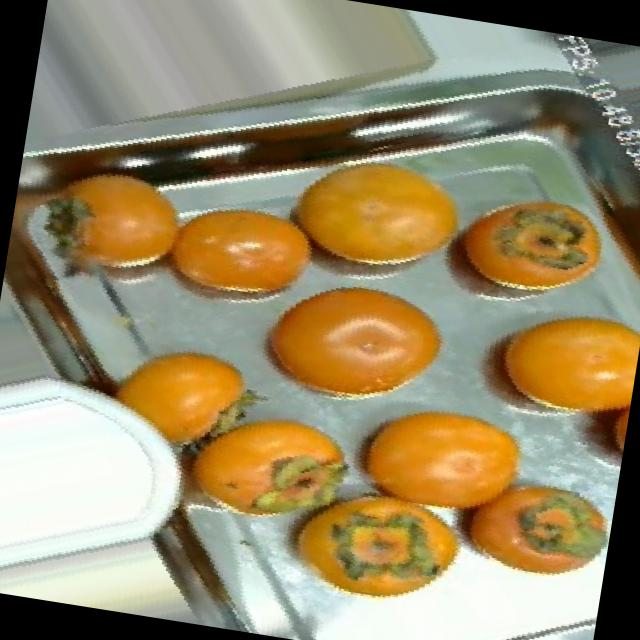Fruit: (231, 249, 474, 438), (253, 130, 495, 298), (153, 376, 377, 550), (326, 367, 556, 536), (129, 156, 341, 334), (421, 158, 632, 330), (450, 269, 640, 447), (86, 316, 274, 474), (432, 456, 618, 605)
